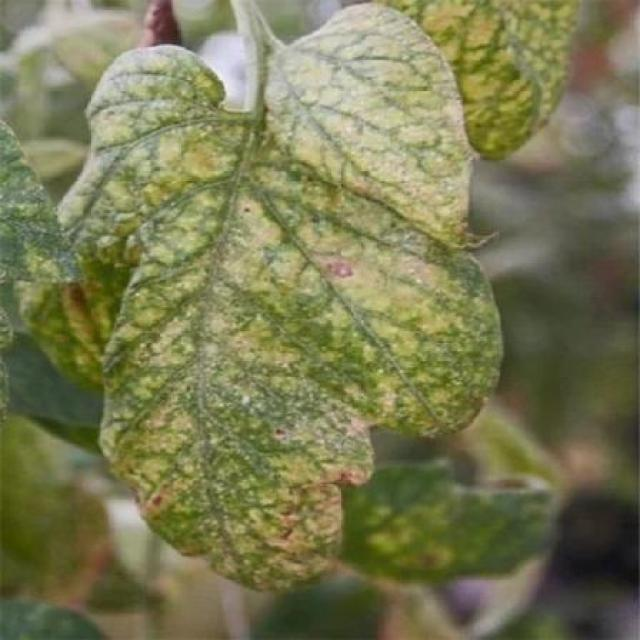Spider Mites: (58, 2, 506, 591)
